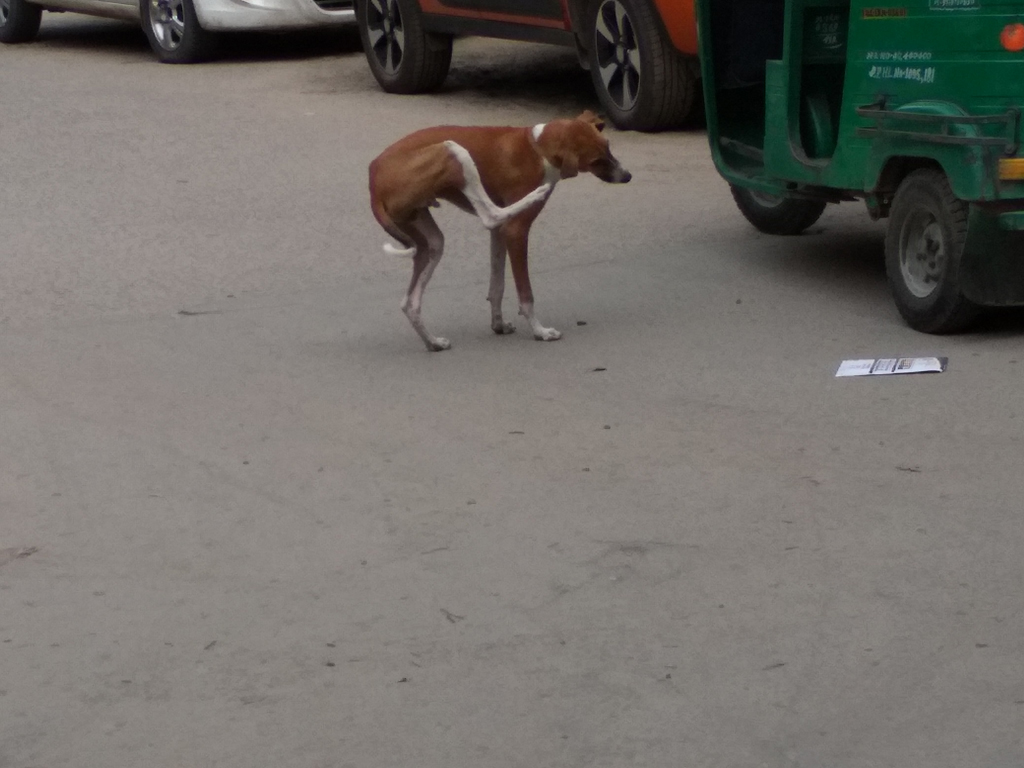dog: (368, 111, 633, 352)
